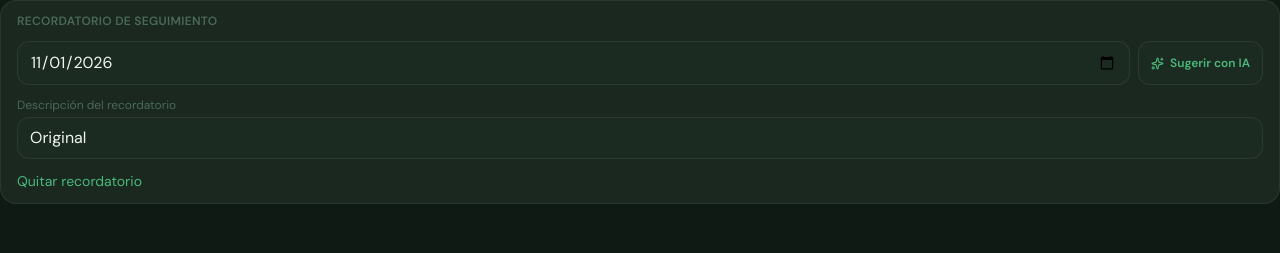
Test case: B029/F036 — recordatorio compartido y respuestas tardías › muestra errores sin borrar lo escrito y permite reintentar
Click the button "Sugerir con IA": click(1200, 63) top-left (1138, 41), bottom-right (1263, 85)
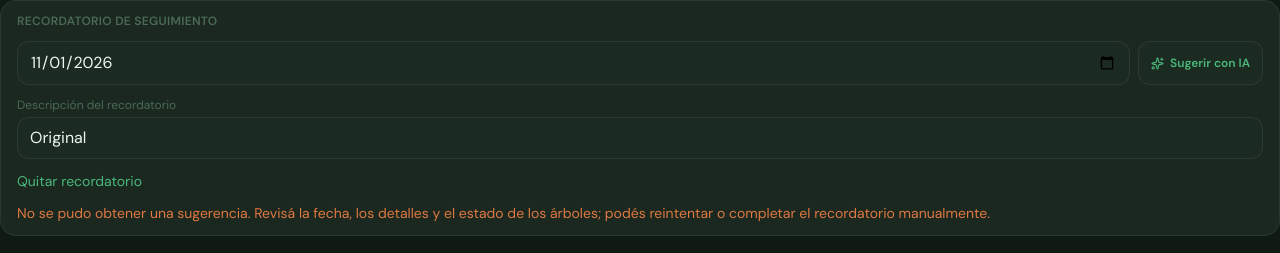
Expected: the field labelled "Descripción del recordatorio" is shown, top-left (17, 117), bottom-right (1263, 159)
Expected: the message is shown, top-left (17, 204), bottom-right (990, 222)
Click the button "Sugerir con IA": click(1200, 63) top-left (1138, 41), bottom-right (1263, 85)
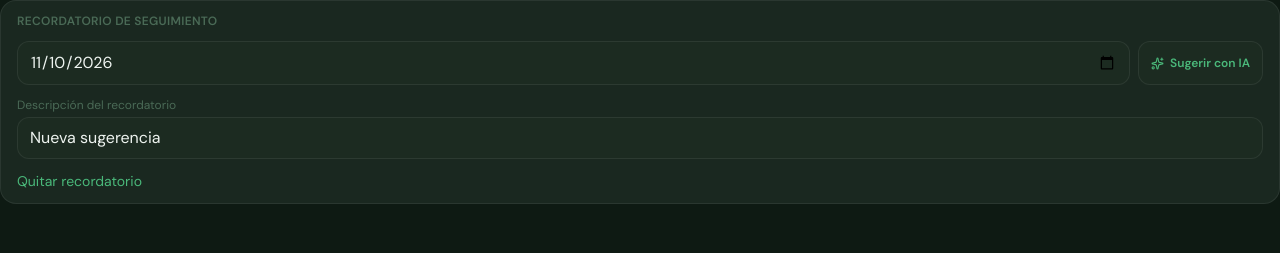
Expected: the message "No se pudo obtener una sugerencia. Revisá la fecha, los detalles y el estado de" is gone
